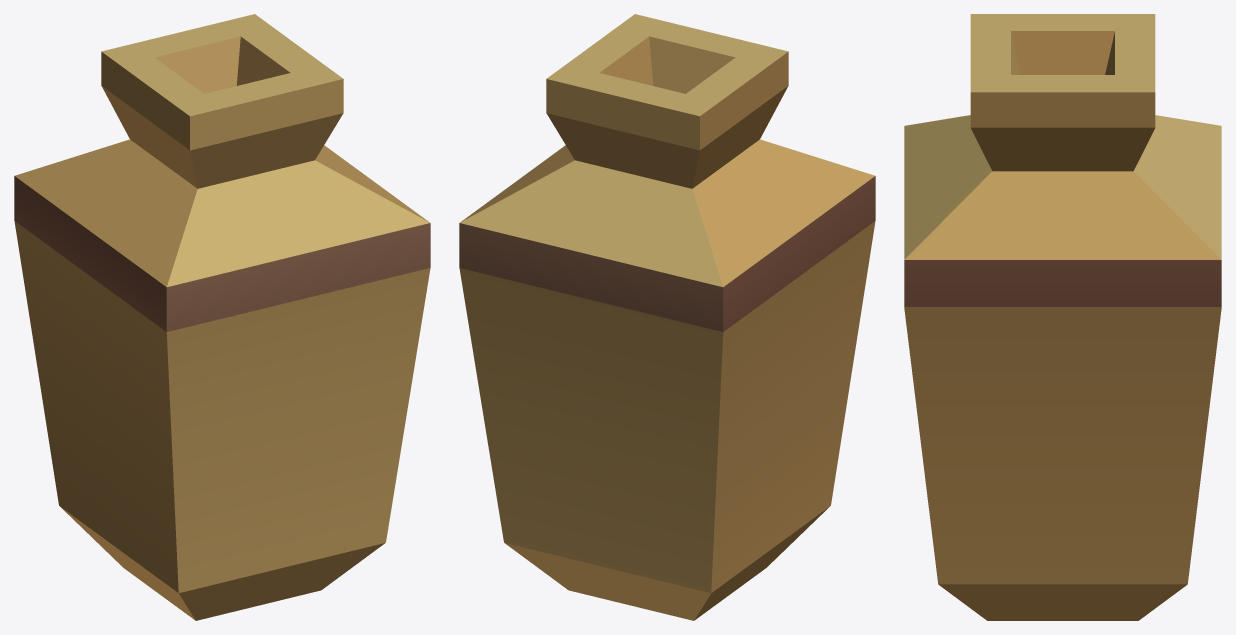
The model's file is SM_Prop_Vase_Large_DoubleSided_01.glb.
3 views of the same model, side by side, from view 1: azimuth 30°, elevation 25°; view 2: azimuth 150°, elevation 25°; view 3: azimuth 270°, elevation 25° (orthographic). The views are drawn at different scales.
Parts seen in each view (by area): view 1: SD_Prop_Vase_Large_DoubleSided_01; view 2: SD_Prop_Vase_Large_DoubleSided_01; view 3: SD_Prop_Vase_Large_DoubleSided_01.
Boxes of the visible parts, x1,y1,x2,y2 form: SD_Prop_Vase_Large_DoubleSided_01: (14, 14, 430, 620); SD_Prop_Vase_Large_DoubleSided_01: (459, 14, 875, 620); SD_Prop_Vase_Large_DoubleSided_01: (904, 14, 1221, 620).
Size of the model in its own units: 0.01 by 0.0187 by 0.01.
1 material, 1 textured.
